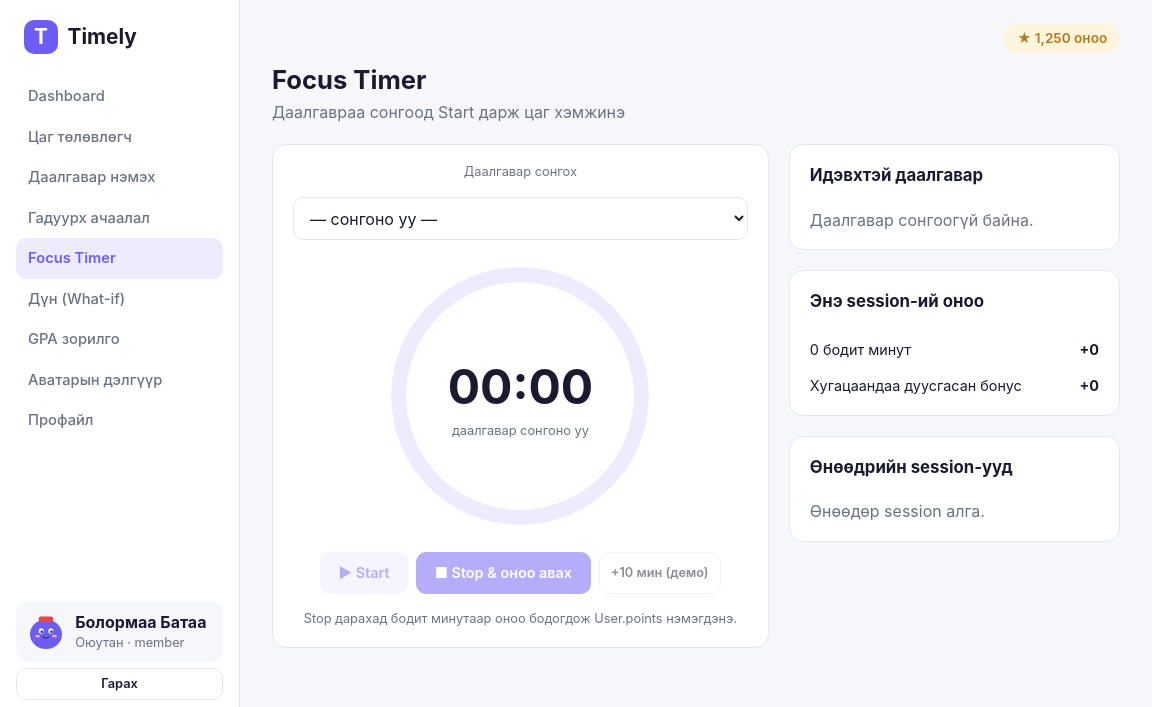
focus timer › даалгавар сонгоогүй үед Start идэвхгүй, Stop нь оноо өгнө
Expected: the button with test id "start" is disabled, [320,552,408,594]
Select "Дискрет математикийн бие даалт" in the dropdown with test id "task-select" at (520, 219), box [293,197,748,240]
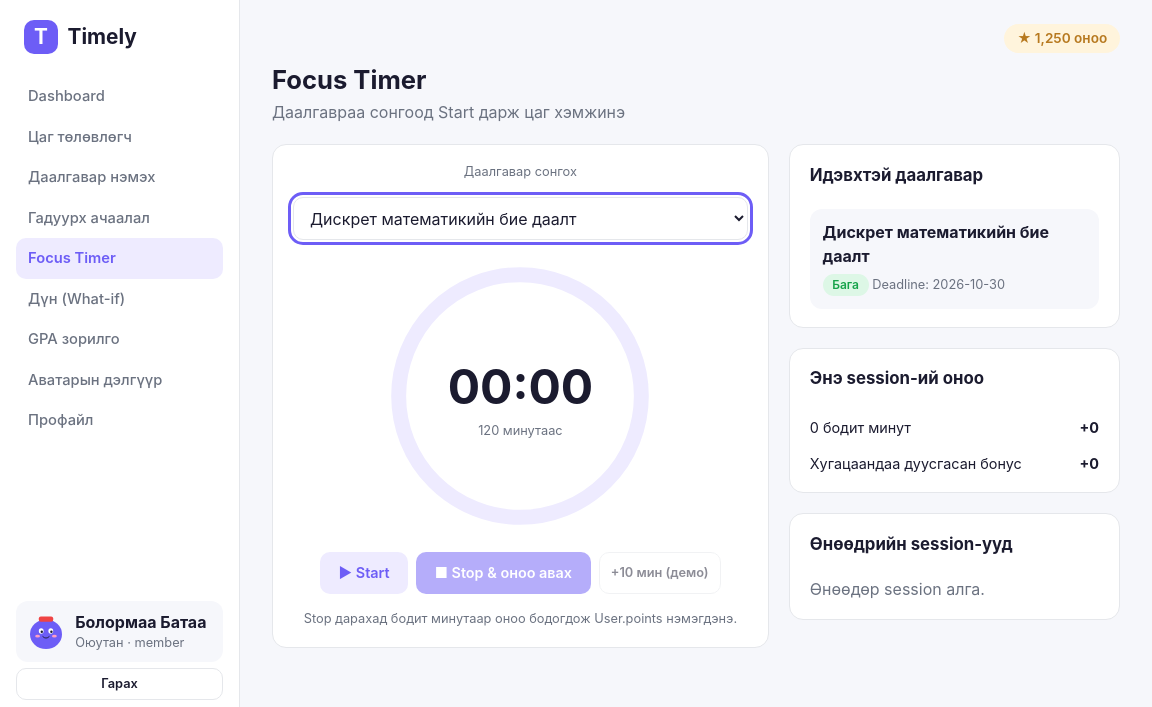
Click the button with test id "start" at (364, 573), box [320,552,408,594]
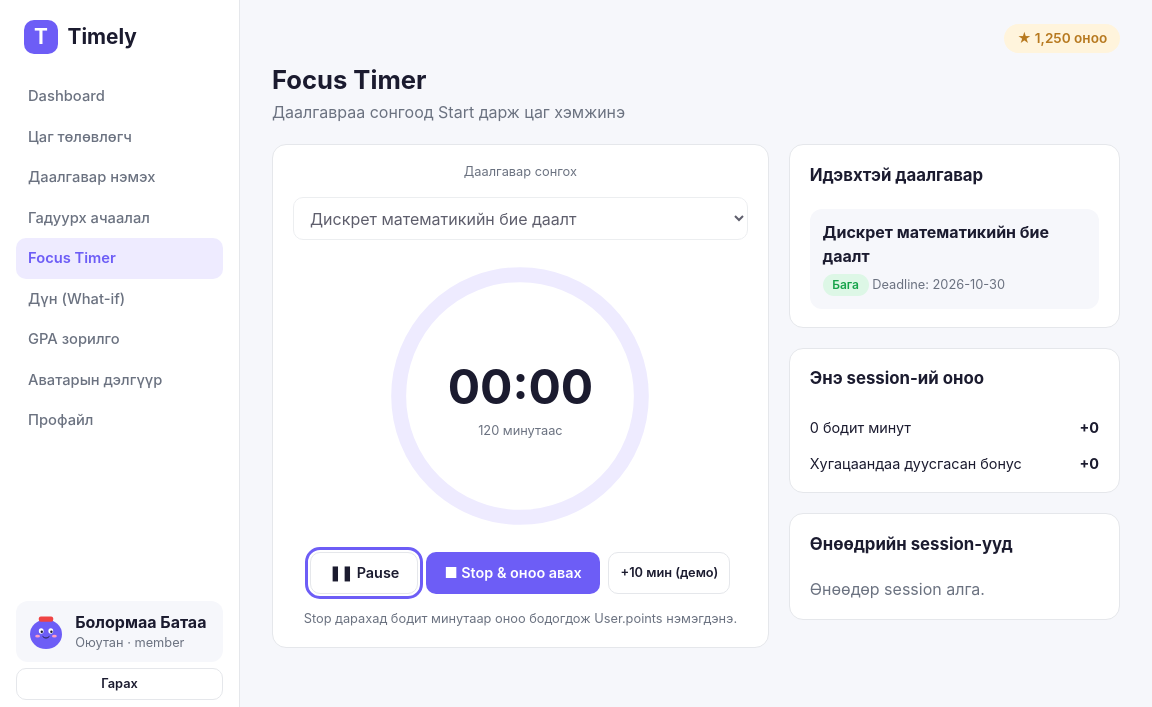
Click the button with test id "demo-add" at (669, 573), box [608,552,730,594]
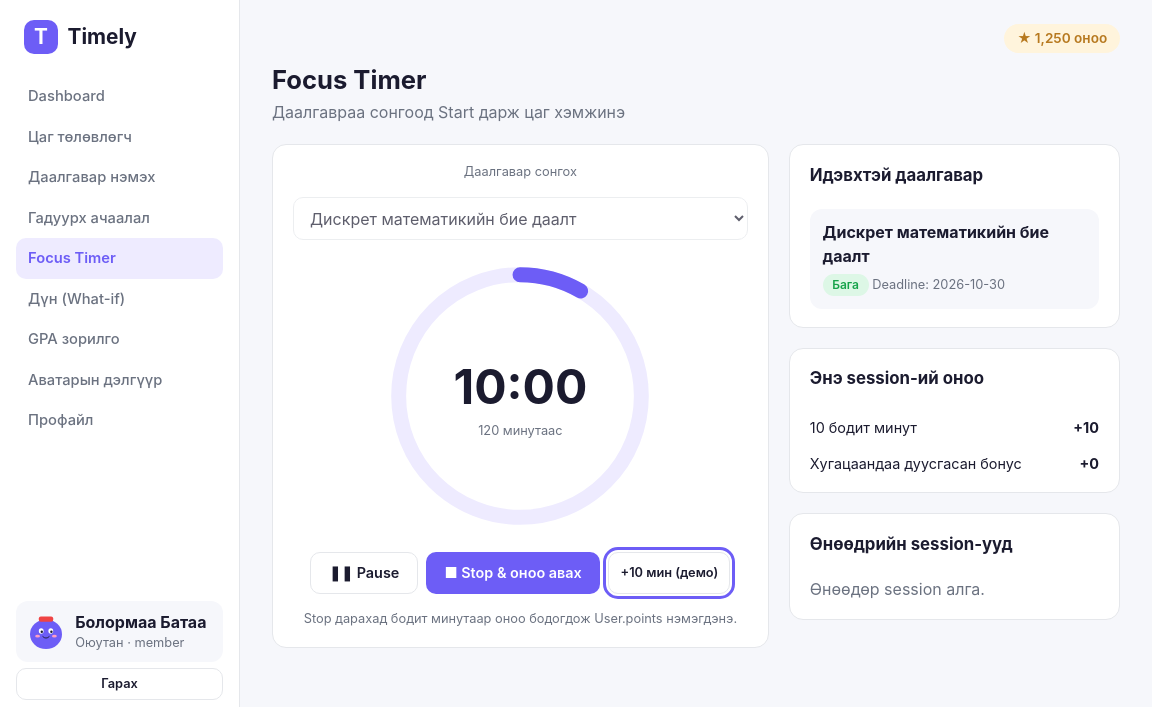
Now the text with test id "timer-display" reads "10:00", box [454,357,587,416]
Now the text with test id "points-preview" reads "+10", box [1073,418,1099,439]
Click the button with test id "stop" at (513, 573), box [426,552,600,594]
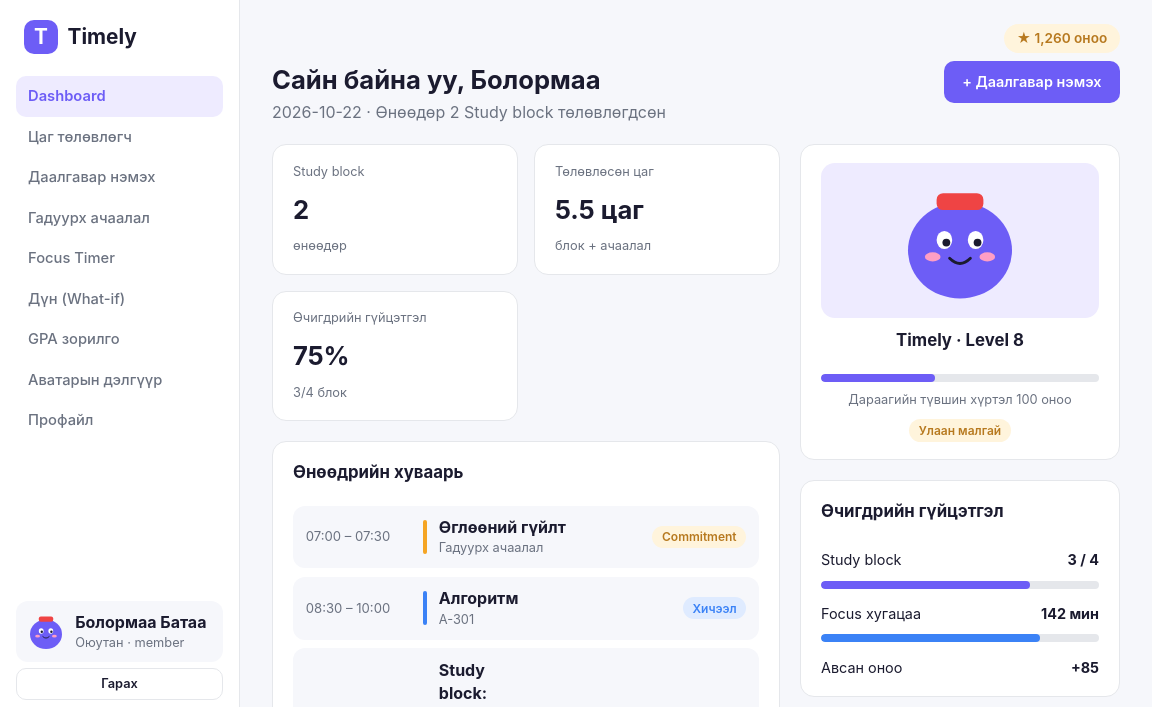
Now the text with test id "points-chip" shows "1,260", box [1034,30,1071,46]
